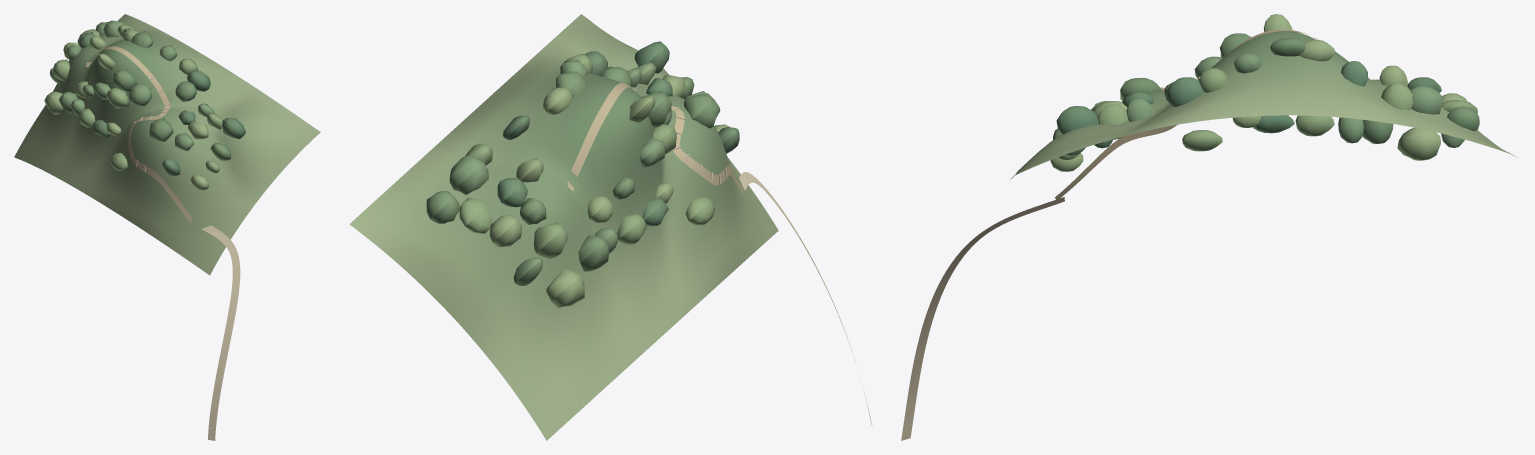
File: mountains.glb
3 views of the same model, side by side, from view 1: azimuth 30°, elevation 25°; view 2: azimuth 150°, elevation 25°; view 3: azimuth 270°, elevation 25° (orthographic). The views are drawn at different scales.
Visible parts, largest first — view 1: mountains (×4); view 2: mountains (×4); view 3: mountains (×4).
Part boxes in pixels (box(x1,y1,x2,y2)): mountains (×4): box(14, 14, 320, 440); mountains (×4): box(349, 14, 872, 440); mountains (×4): box(901, 14, 1517, 440).
Bounding box in the file's own units: 0.5786 × 1.08 × 1.36.
